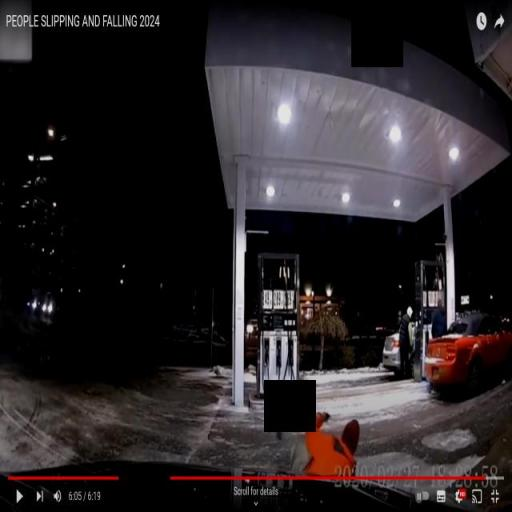Fall: (273, 399, 362, 485)
